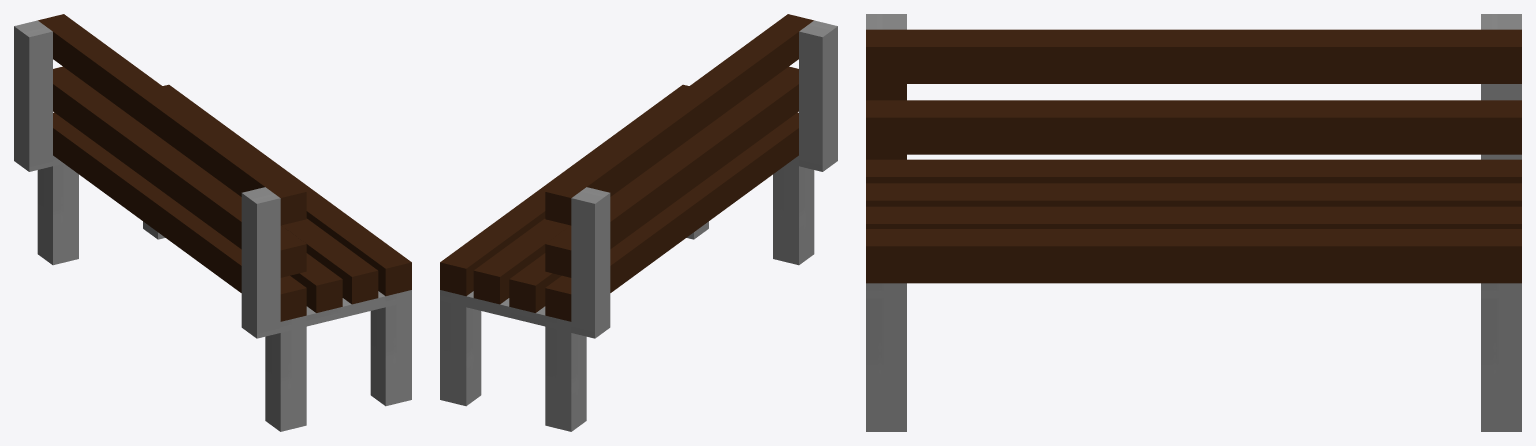
The model's file is bench.fbx.
3 views of the same model, side by side, from view 1: azimuth 30°, elevation 25°; view 2: azimuth 150°, elevation 25°; view 3: azimuth 270°, elevation 25° (orthographic). The views are drawn at different scales.
Visible parts, largest first — view 1: Cube.003; view 2: Cube.003; view 3: Cube.003.
Part boxes in pixels (<box>): Cube.003: <box>14,14,411,431</box>; Cube.003: <box>440,14,837,431</box>; Cube.003: <box>866,14,1521,431</box>.
Size of the model in its own units: 59 by 84.99 by 160.
